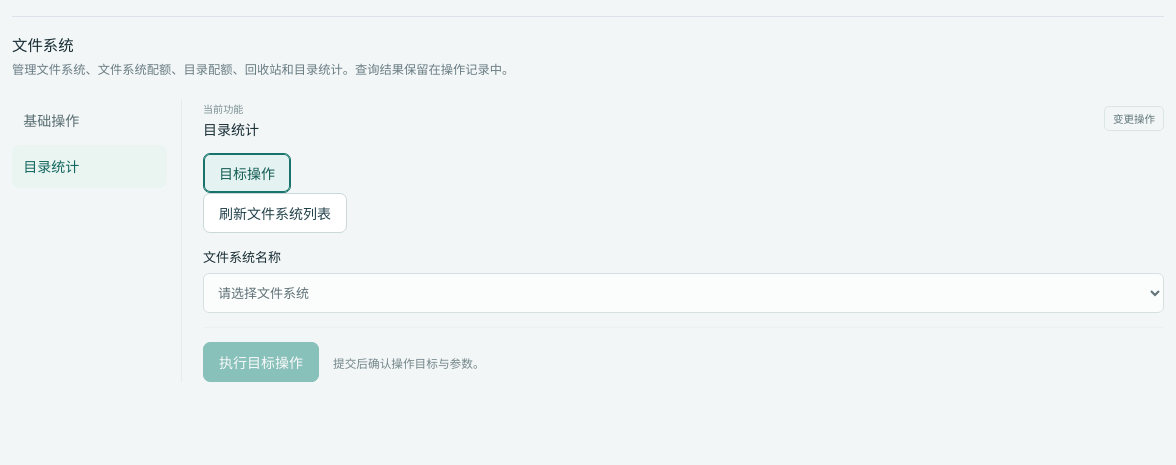
Scenario: invalid filesystem ID invalid cannot be submitted
Click the button "目标操作".
click(247, 173)  # box [203, 153, 291, 193]
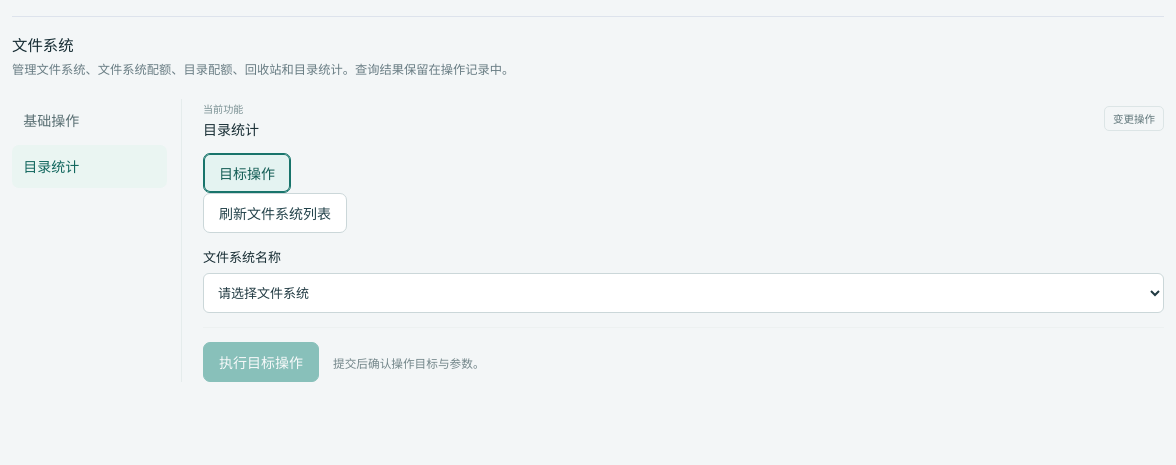
Select "active" in the dropdown labelled "文件系统名称" at (684, 293), box [203, 273, 1164, 313]
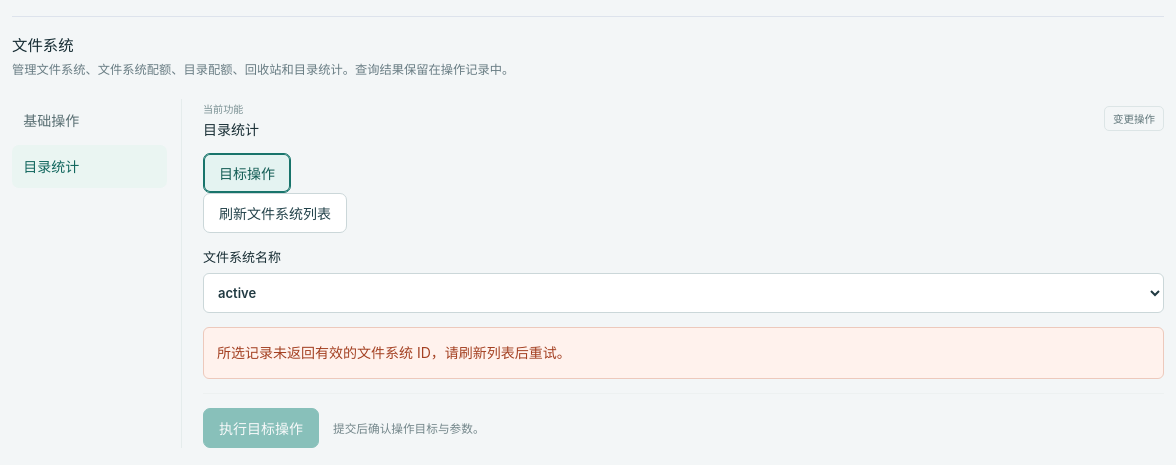
Expected: the button "执行目标操作" is disabled, [203, 408, 319, 448]
Expected: the text "所选记录未返回有效的文件系统 ID，请刷新列表后重试。" is shown, [203, 327, 1164, 379]
